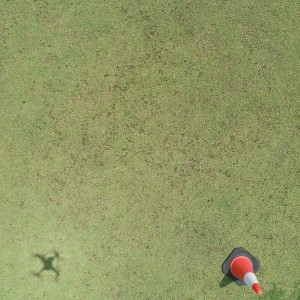traffic cone: (221, 247, 262, 294)
